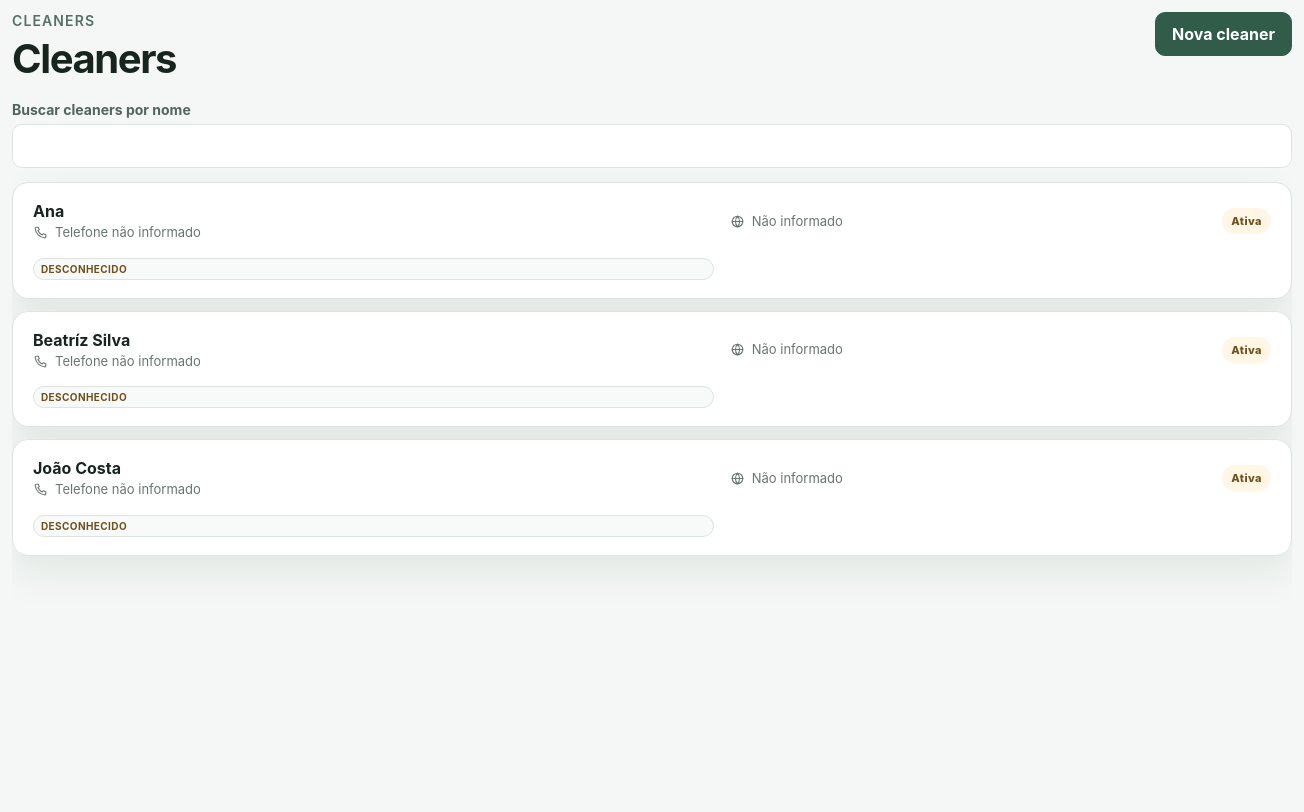
Test case: CleanerDirectory name search › localizes search and no-match copy in pt
Type "missing" into the search field labelled "Buscar cleaners por nome" at coordinates (652, 146), box [12,124,1292,168]
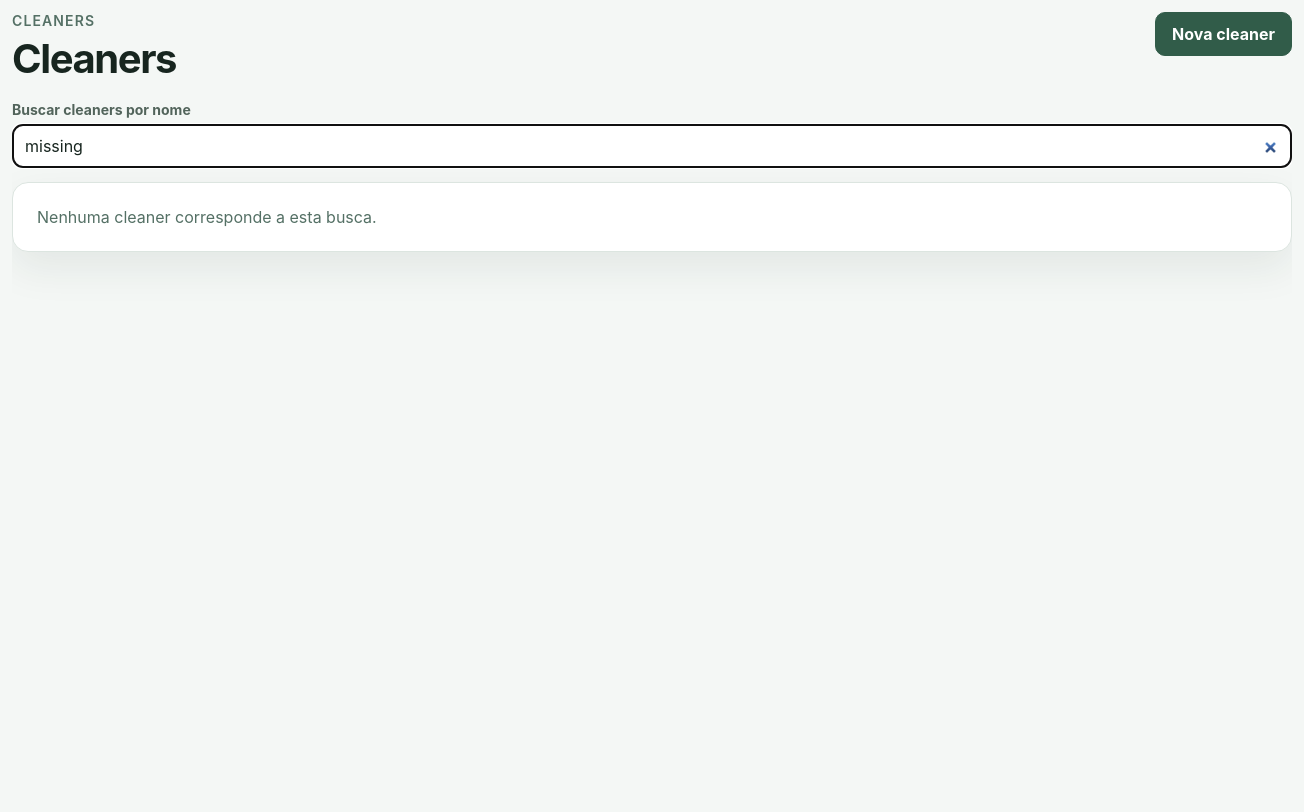
Result: the text "Nenhuma cleaner corresponde a esta busca." is shown at [12,182,1292,252]
